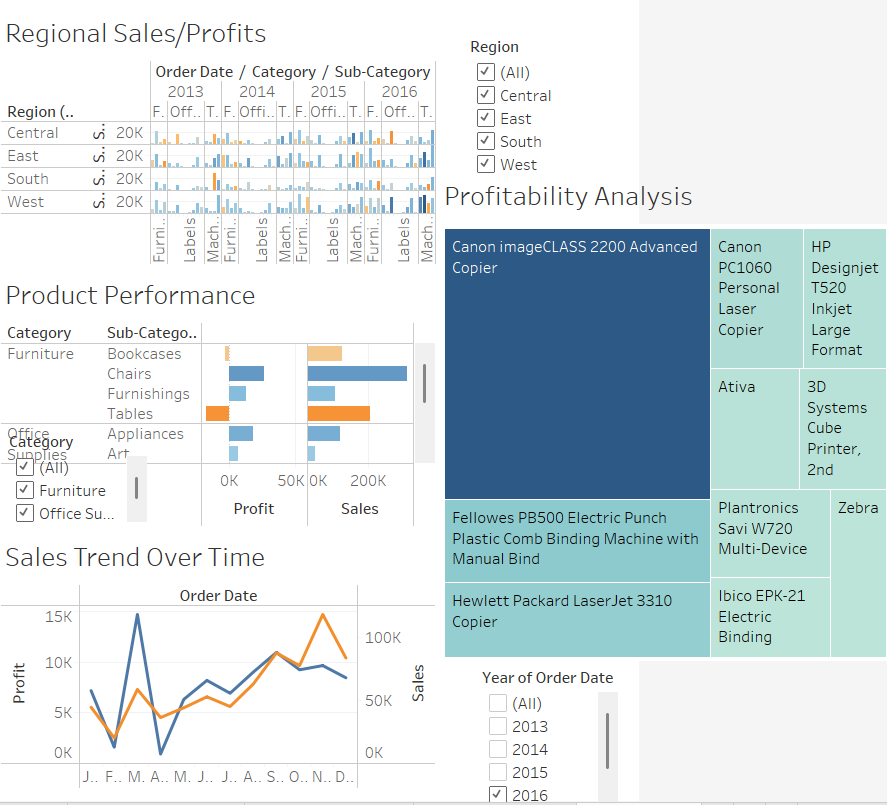

The page's visual inventory and layout, read from the dashboard file:
{"tool":"tableau","page":{"name":"Dashboard 1","canvas":[650,860],"ordinal":0},"visuals":[{"type":"worksheet","title":"Regional Sales/Profits","mark":"Automatic","rows":["Region (People)","Sales"],"cols":["Order Date","Category","Sub-Category"],"box":[8,8.6,443,280.9]},{"type":"filter","title":"Regional Sales/Profits","param":"[federated.0yv6zen1g5kump1alaspr1ecz14x].[none:Region:nk]","box":[481,39.7,168,161.9]},{"type":"worksheet","title":"Product Performance","mark":"Automatic","rows":["Category","Sub-Category"],"cols":["Profit","Sales"],"box":[8,289.5,443,281]},{"type":"filter","title":"Product Performance","param":"[federated.0yv6zen1g5kump1alaspr1ecz14x].[none:Category:nk]","box":[20,463.2,138,97.6]},{"type":"worksheet","title":"Sales Trend Over Time","mark":"Automatic","rows":["Profit","Sales"],"cols":["Order Date"],"box":[8,570.5,443,281]},{"type":"filter","title":"Sales Trend Over Time","param":"[federated.0yv6zen1g5kump1alaspr1ecz14x].[yr:Order Date:ok]","box":[493,716.3,136,146.9]}]}

Visuals, with their boxes on the page's 650x860 design canvas (x1, y1, x2, y2). These are canvas units, not pixel positions in the 887x805 screenshot, which may show the page scaled, cropped or inside an application window:
"Regional Sales/Profits" worksheet: pyautogui.locateOnScreen(8, 9, 451, 290)
"Regional Sales/Profits" filter: pyautogui.locateOnScreen(481, 40, 649, 202)
"Product Performance" worksheet: pyautogui.locateOnScreen(8, 290, 451, 570)
"Product Performance" filter: pyautogui.locateOnScreen(20, 463, 158, 561)
"Sales Trend Over Time" worksheet: pyautogui.locateOnScreen(8, 570, 451, 852)
"Sales Trend Over Time" filter: pyautogui.locateOnScreen(493, 716, 629, 863)
